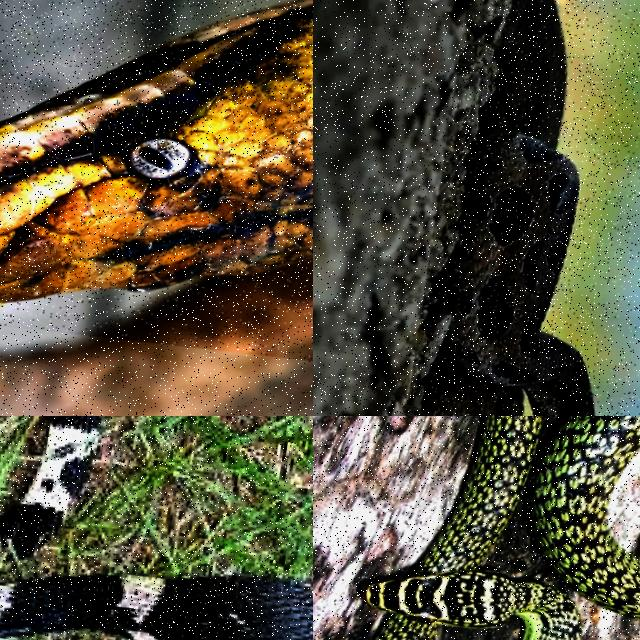Chrysopelea ornata: (367, 416, 579, 639)
Daboia siamensis: (419, 0, 593, 415)
Malayopython reticulatus: (0, 0, 312, 303)
Naja siamensis: (0, 573, 312, 639)
snake: (0, 0, 312, 303), (419, 0, 593, 415), (367, 416, 579, 639), (0, 573, 312, 639)
